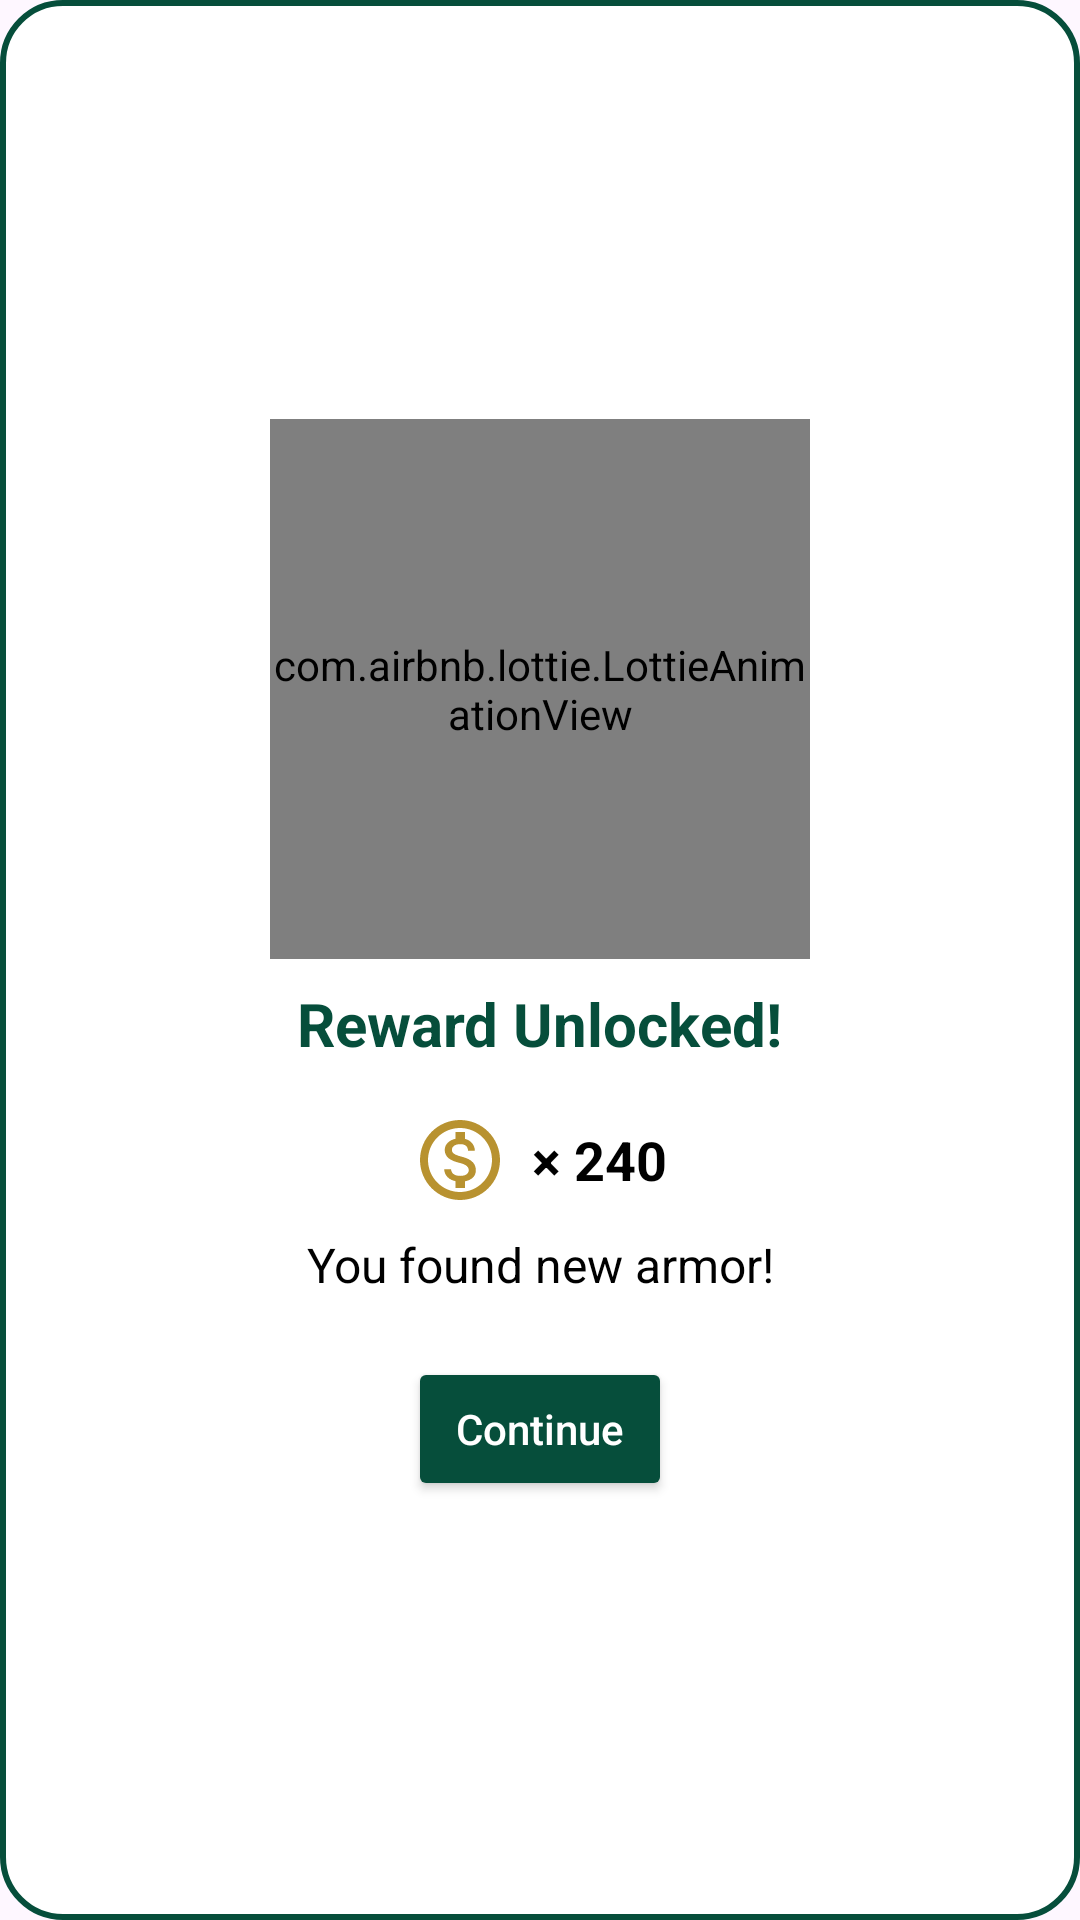

Icon bounding boxes for this 1080px x 1920px phone screenshot, format (x1, y1, x2, y2):
Coins: (420, 1120, 500, 1200)
